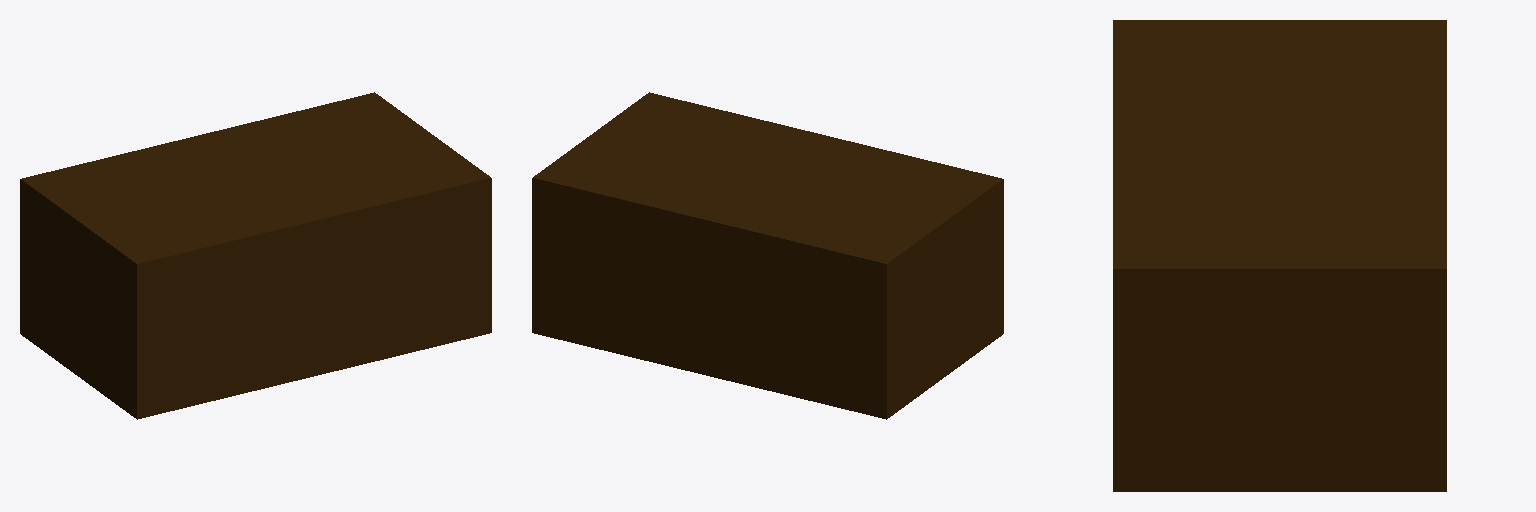
robot.urdf — box5:
<?xml version="1.0" ?>
<robot name="box5">
  <link name="box5_body">
    <visual>
      <origin xyz="0 0 0" rpy="0 0 0"/>
      <geometry>
        <box size="0.272 0.155 0.114"/>
      </geometry>
      <material name="CardBoard">
        <color rgba="0.2667536437511444 0.17454615235328674 0.06440283358097076 1" />
      </material>
    </visual>
    <collision>
      <origin xyz="0 0 0" rpy="0 0 0"/>
      <geometry>
        <box size="0.272 0.155 0.114"/>
      </geometry>
    </collision>
    <inertial>
      <origin xyz="0 0 0" rpy="0 0 0"/>
      <mass value="0.566"/>
      <inertia ixx="0.001746" ixy="0" ixz="0" iyy="0.004103" iyz="0" izz="0.004623" />
    </inertial>
  </link>
</robot>

--- Render facts (derived) ---
3 views of the same robot in one strip: view 1: azimuth 30°, elevation 25°; view 2: azimuth 150°, elevation 25°; view 3: azimuth 270°, elevation 25° (orthographic).
Robot: box5 — 1 links, 0 joints (none); root link box5_body; default pose: all joints at 0.
Links seen in each view (by area): view 1: box5_body; view 2: box5_body; view 3: box5_body.
Boxes of the visible links, x1,y1,x2,y2 form: box5_body: (20,92,491,419); box5_body: (532,92,1003,419); box5_body: (1113,20,1446,491).
Bounding box of the posed robot: 0.272 × 0.155 × 0.114 m (x, y, z).
Geometry: primitives only (box / cylinder / sphere), no mesh files.